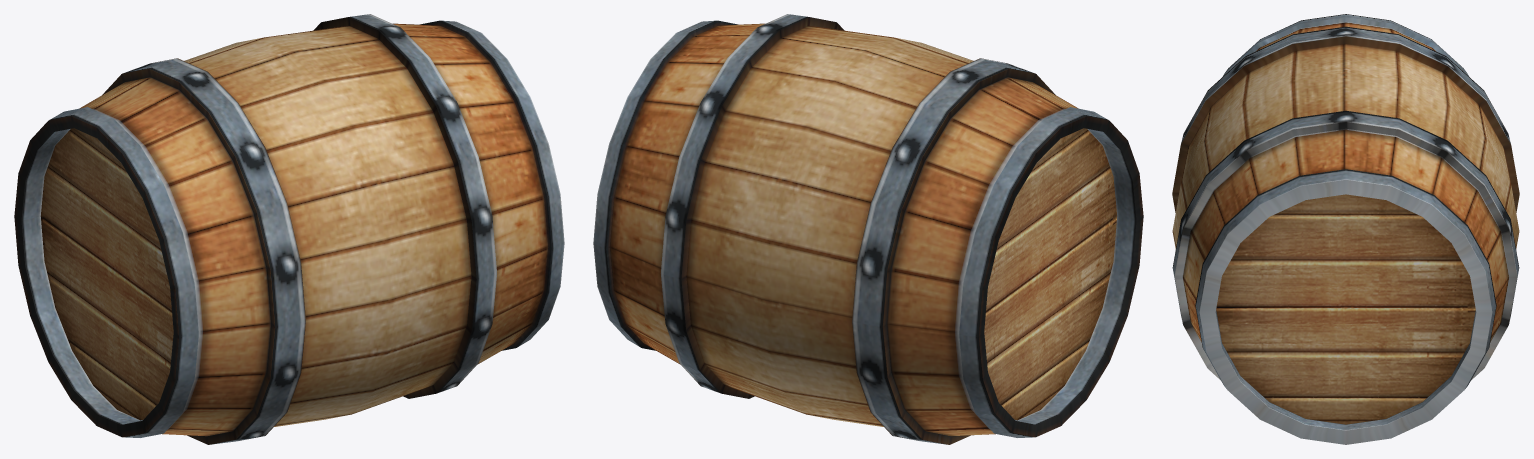
File: Barrel.FBX
3 views of the same model, side by side, from view 1: azimuth 30°, elevation 25°; view 2: azimuth 150°, elevation 25°; view 3: azimuth 270°, elevation 25° (orthographic). The views are drawn at different scales.
Parts seen in each view (by area): view 1: barrel; view 2: barrel; view 3: barrel.
Boxes of the visible parts, bbox=[...] form: barrel: bbox=[14, 14, 564, 444]; barrel: bbox=[593, 14, 1143, 444]; barrel: bbox=[1172, 14, 1519, 444].
Size of the model in its own units: 0.2192 by 0.1934 by 0.1934.
